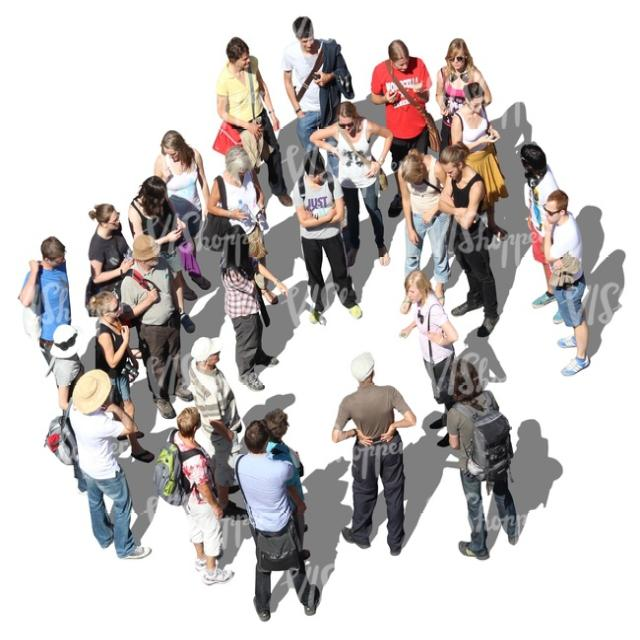body: (42, 368, 153, 560), (331, 350, 418, 557), (233, 420, 321, 624), (442, 358, 519, 561), (153, 406, 234, 586), (308, 99, 394, 266), (120, 233, 196, 420), (214, 35, 294, 208), (369, 38, 443, 219), (290, 149, 362, 324), (200, 146, 279, 305), (437, 140, 500, 338), (282, 16, 356, 180), (218, 223, 290, 391), (186, 336, 250, 523), (397, 268, 461, 449), (127, 174, 197, 335), (92, 290, 156, 464), (152, 129, 214, 302), (450, 81, 509, 241), (397, 148, 453, 316), (542, 188, 590, 376), (519, 142, 565, 326), (16, 234, 73, 373), (262, 407, 312, 563), (436, 37, 492, 165), (88, 202, 136, 302), (42, 323, 88, 412)
